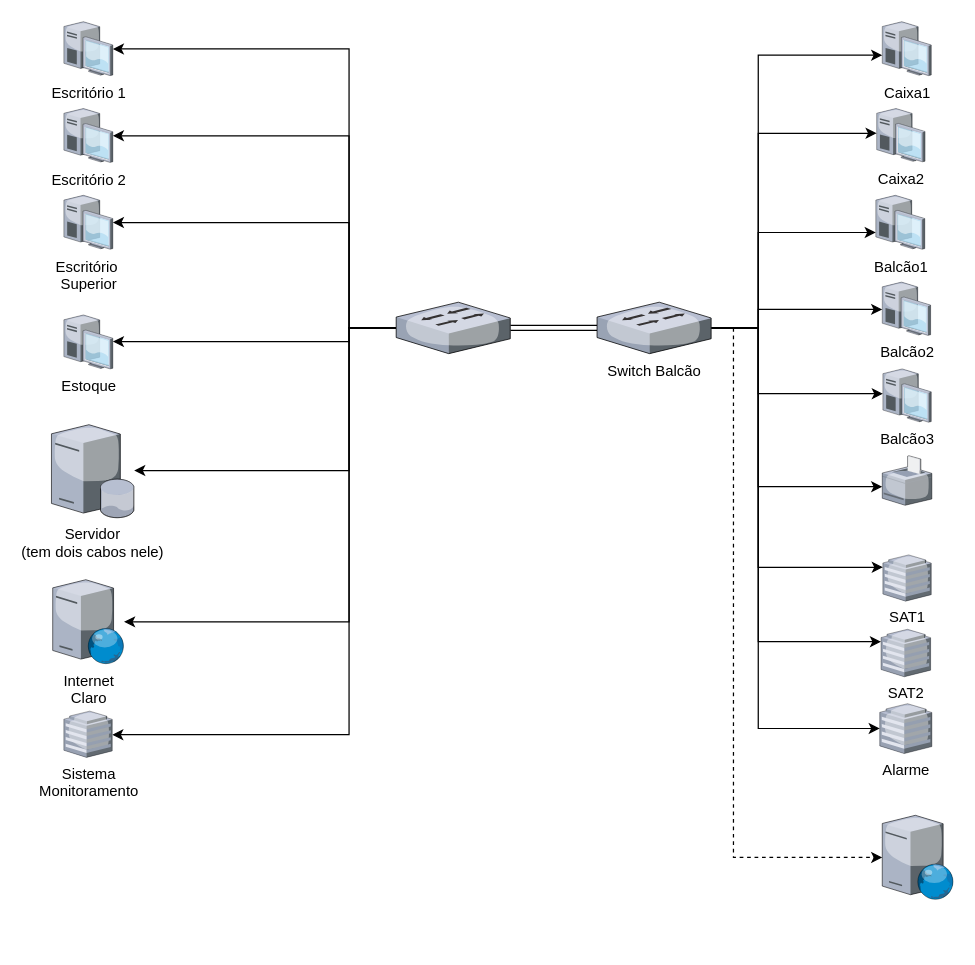
The diagram is 975 pixels wide and 965 high, and some of its shapes have lost their labels. Each missing label, with the centre of its shape:
"Impressora balcão" belongs at pixel 906 480.
"Internet Vivo" belongs at pixel 917 857.
"Switch Escritório" belongs at pixel 453 327.
